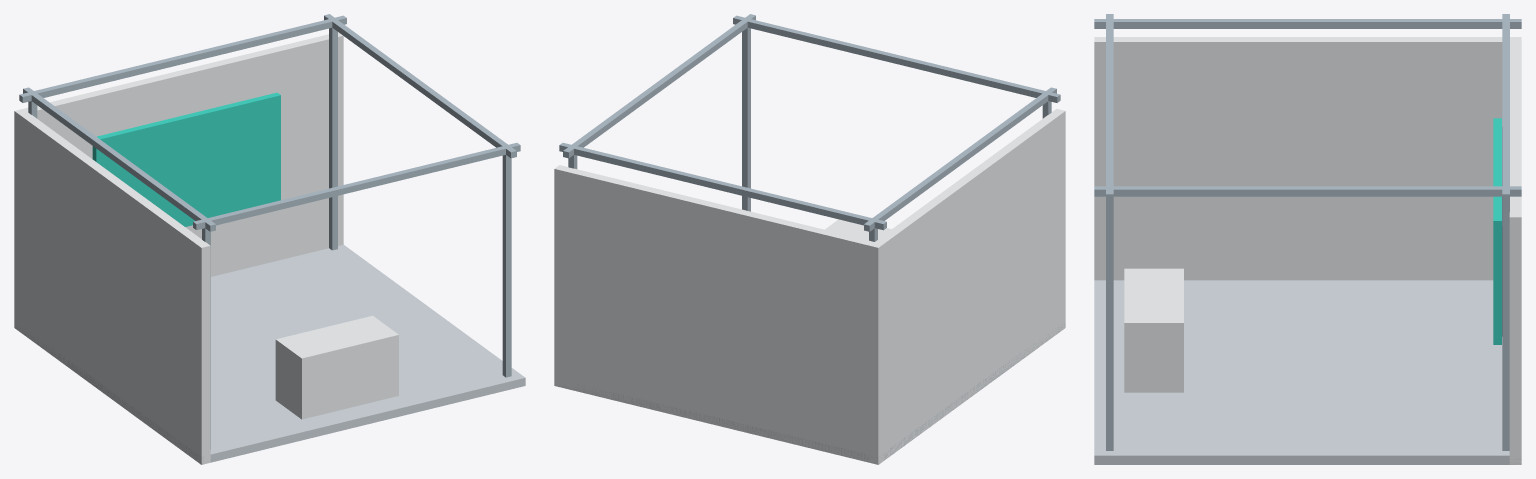
3 renders of one model, left to right at view 1: azimuth 30°, elevation 25°; view 2: azimuth 150°, elevation 25°; view 3: azimuth 270°, elevation 25°, orthographic. The views are drawn at different scales.
Parts seen in each view (by area): view 1: Exhibition Booth Concept; view 2: Exhibition Booth Concept; view 3: Exhibition Booth Concept.
Part boxes in pixels (x1,y1,x2,y2): Exhibition Booth Concept: [14, 14, 525, 464]; Exhibition Booth Concept: [554, 14, 1065, 464]; Exhibition Booth Concept: [1094, 14, 1521, 464].
Size of the model in its own units: 5 by 3.49 by 5.
